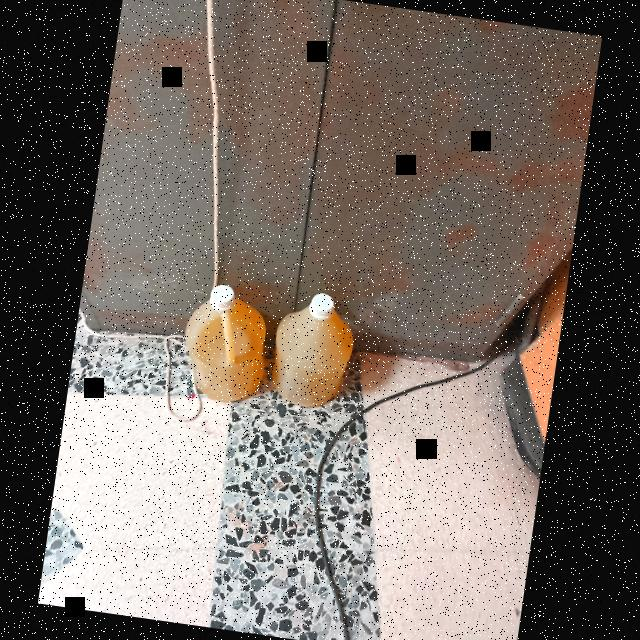chemical_plastic_gallon: (164, 272, 282, 408), (265, 280, 375, 420)
